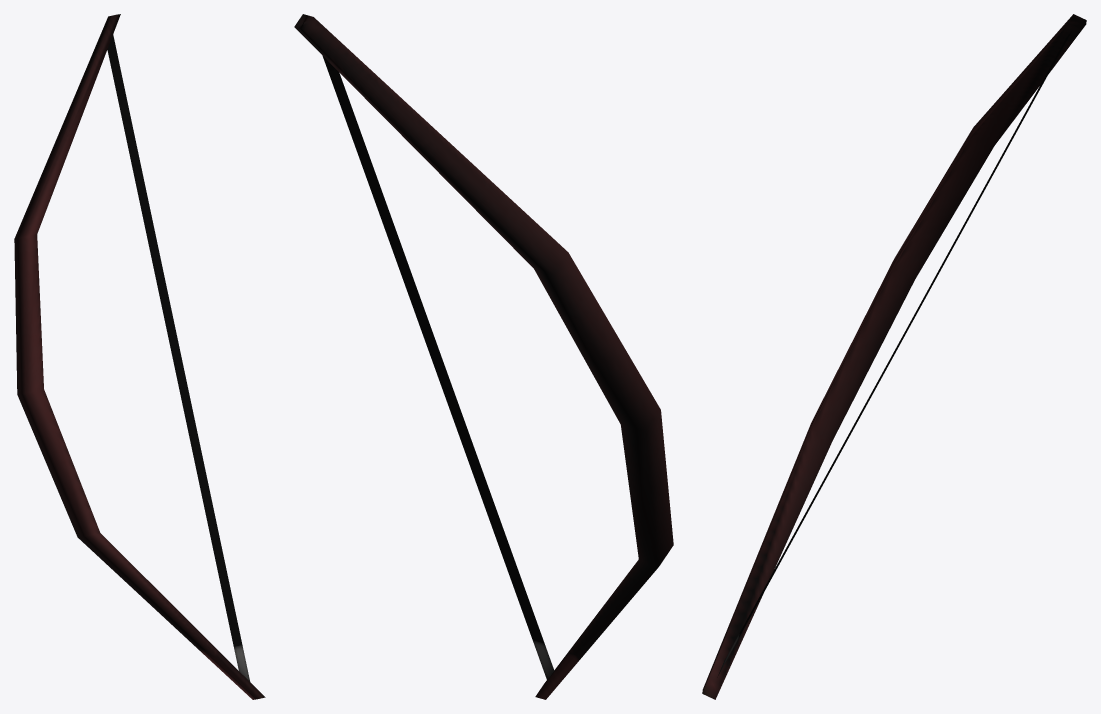
Rendered from Bow 6.fbx.
3 renders of one model, left to right at view 1: azimuth 30°, elevation 25°; view 2: azimuth 150°, elevation 25°; view 3: azimuth 270°, elevation 25°, orthographic. The views are drawn at different scales.
Visible parts, largest first — view 1: Bow6; view 2: Bow6; view 3: Bow6.
Part boxes in pixels (left/top/right/bottom): Bow6: left=14, top=14, right=265, bottom=699; Bow6: left=294, top=14, right=673, bottom=699; Bow6: left=702, top=14, right=1086, bottom=699.
Size of the model in its own units: 0.4005 by 1.29 by 0.653.
